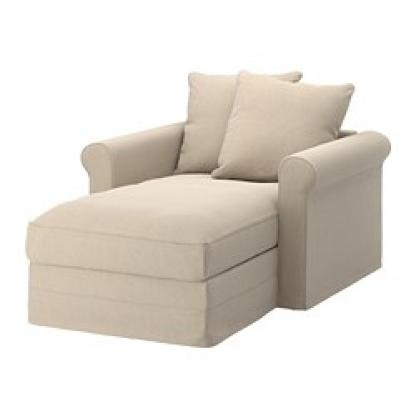Sofa: (20, 53, 389, 354)
